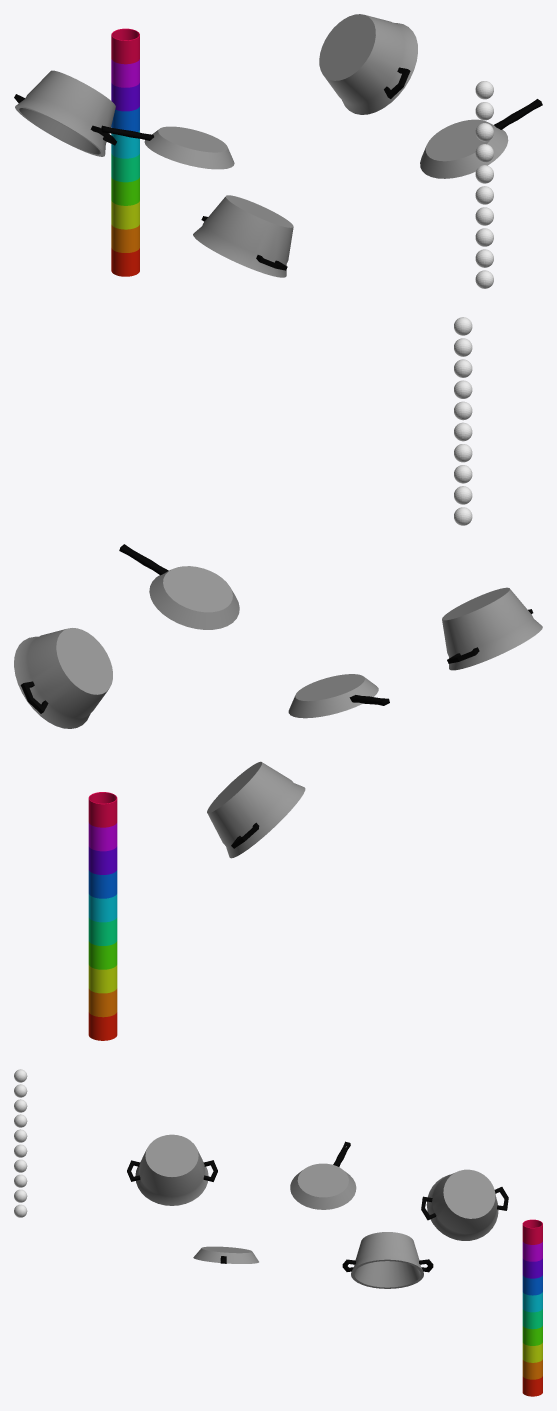
The model's file is pingpong.final.fbx.
3 views of the same model, one above another, from view 1: azimuth 30°, elevation 25°; view 2: azimuth 150°, elevation 25°; view 3: azimuth 270°, elevation 25° (orthographic). The views are drawn at different scales.
Parts seen in each view (by area): view 1: pan_1.002, glass, pan_1.001, pan_1.003, pan_2.001, pan_2.002; view 2: pan_1.002, glass, pan_1.001, pan_1.003, pan_2.001, pan_2.002; view 3: pan_1.003, pan_1.001, glass, pan_1.002, pan_2.002, pan_2.001.
Boxes of the visible parts, <box> form: pan_1.002: <box>319,14,417,114</box>; glass: <box>111,28,139,276</box>; pan_1.001: <box>193,195,293,277</box>; pan_1.003: <box>14,70,116,156</box>; pan_2.001: <box>420,99,542,178</box>; pan_2.002: <box>101,125,234,169</box>; pan_1.002: <box>14,628,112,728</box>; glass: <box>88,792,117,1040</box>; pan_1.001: <box>442,587,542,670</box>; pan_1.003: <box>207,761,305,858</box>; pan_2.001: <box>119,544,239,629</box>; pan_2.002: <box>288,674,389,718</box>; pan_1.003: <box>421,1169,508,1240</box>; pan_1.001: <box>127,1134,217,1205</box>; glass: <box>522,1219,542,1396</box>; pan_1.002: <box>342,1232,433,1288</box>; pan_2.002: <box>290,1141,356,1209</box>; pan_2.001: <box>193,1246,258,1263</box>.
Bounding box in the file's own units: 936 × 1073 × 1596.
